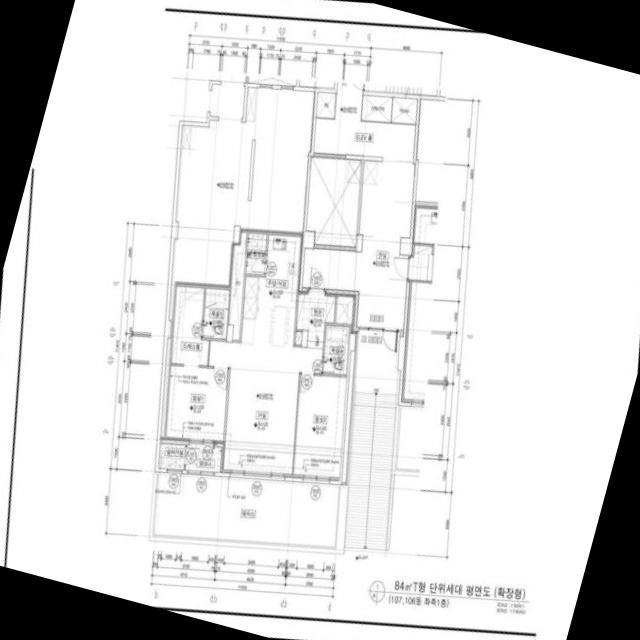background: (0, 0, 640, 640)
space_balconi: (158, 443, 221, 472)
space_bedroom: (293, 374, 346, 477), (166, 365, 228, 441)
space_dressroom: (171, 286, 209, 365)
space_elevator_hall: (313, 93, 415, 159)
space_front: (296, 294, 335, 348)
space_kitchen: (240, 234, 300, 346)
space_living_room: (208, 340, 323, 474)
space_multipurpose_space: (245, 252, 265, 275)
space_other: (169, 87, 314, 320), (302, 160, 414, 330), (305, 156, 361, 247), (228, 232, 247, 340), (361, 95, 392, 123), (391, 97, 417, 124), (316, 92, 336, 118), (335, 296, 353, 324), (247, 233, 266, 253), (294, 331, 301, 345)
space_toilet: (202, 288, 229, 339), (323, 325, 349, 375)
